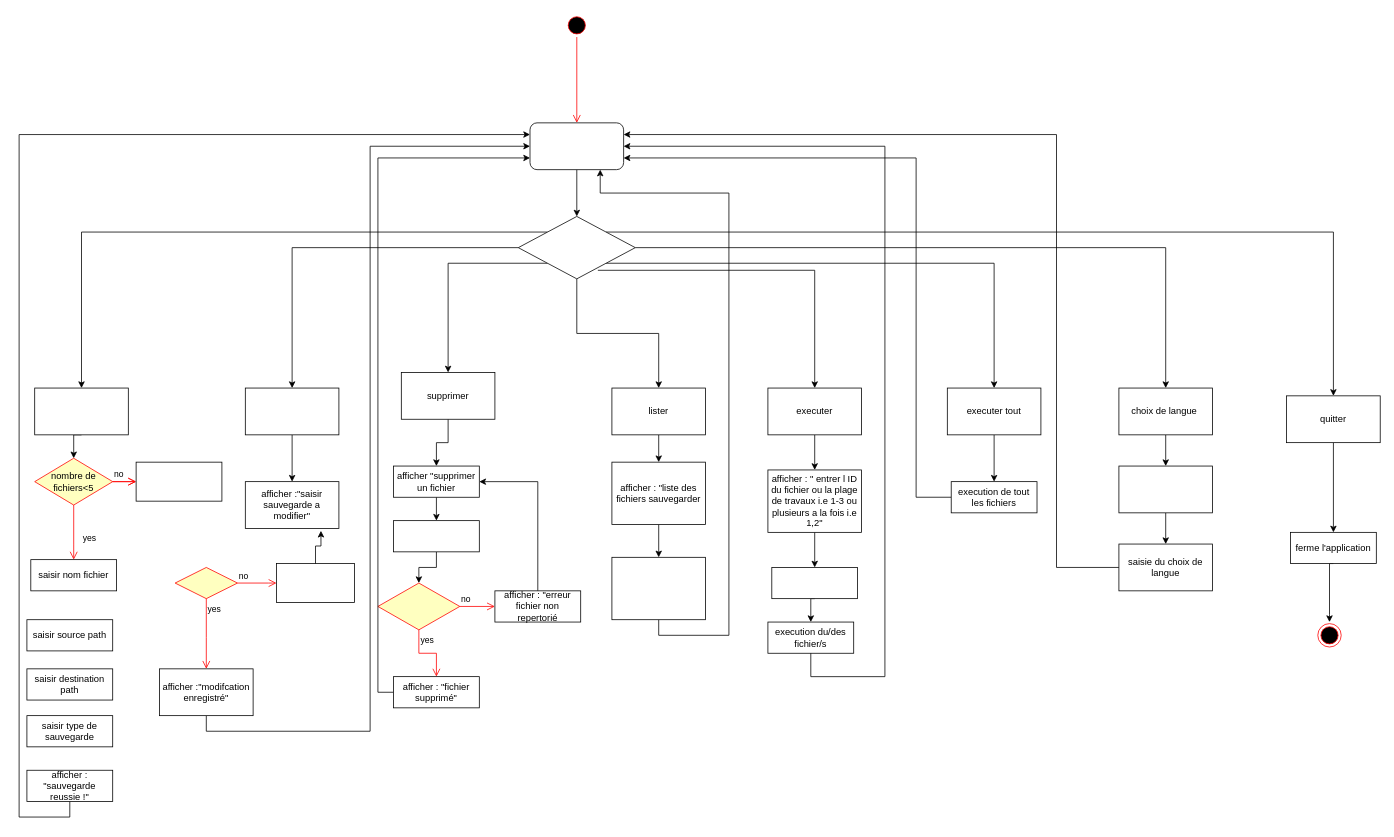
This 1394x837 diagram has some shape labels left out. Here are the shapes that lost their labels. From the top down, the centre of each, then its label:
pixel 576 146: menu principal
pixel 576 247: choix utilisateur
pixel 81 411: creer
pixel 292 411: modifier
pixel 178 481: afficher "erreur : nombre de fichiers maximal atteint "
pixel 1165 489: afficher " 1 francais 2 anglais"
pixel 436 536: saisir l'ID du fichier a supprimer
pixel 206 583: saisie valide
pixel 315 583: afficher :"une erreure c est produite"
pixel 658 588: afficher la liste des ficiers (ID,nom,file path,derniere utilisation)
pixel 814 583: saisie ID fichier a executer
pixel 418 606: sauvegarde trouvée
